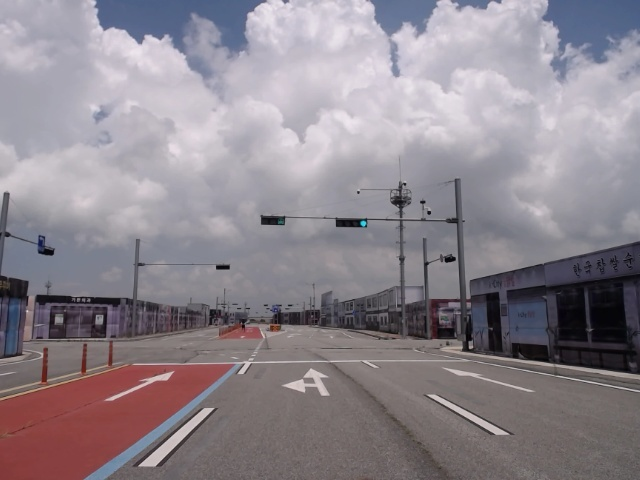straight_green_4: (336, 219, 369, 227)
